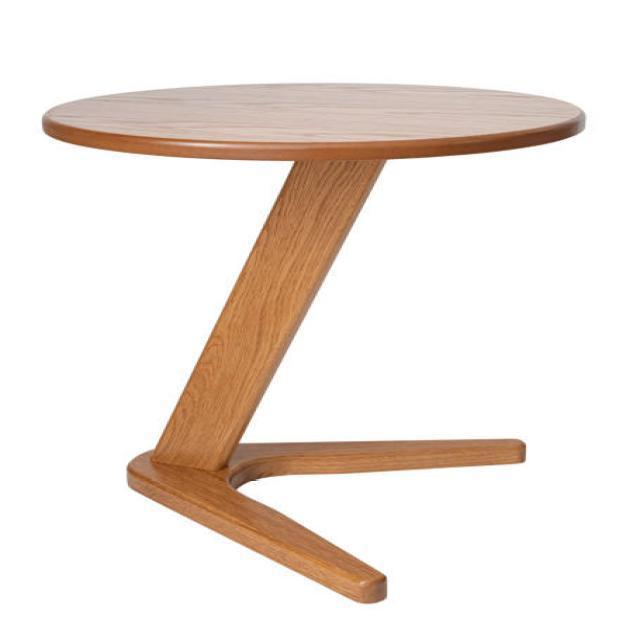table: (39, 81, 586, 604)
